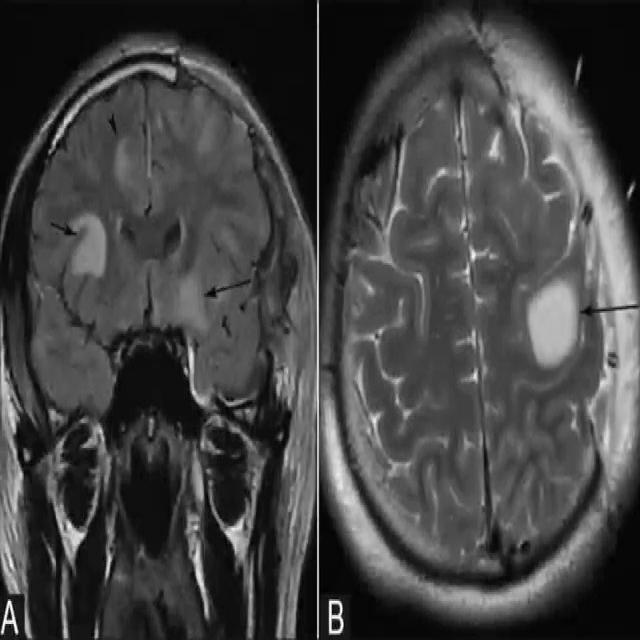tumor: (53, 142, 114, 352), (516, 266, 586, 374)
